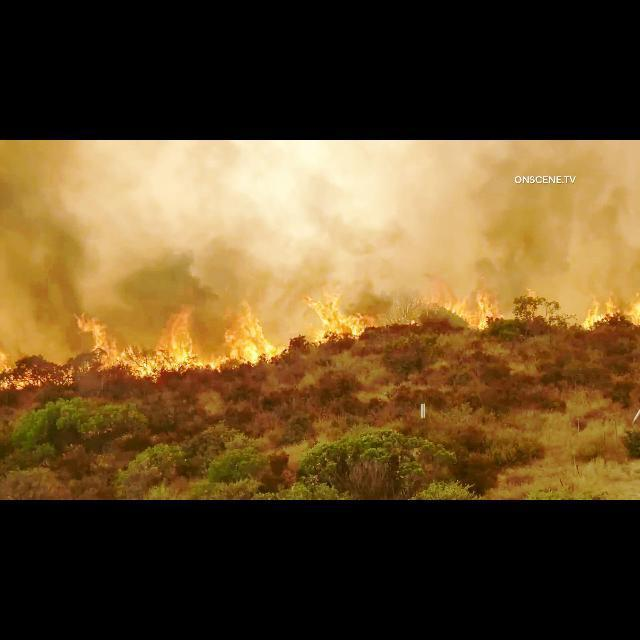Fire: (68, 311, 208, 385), (422, 268, 500, 336), (218, 302, 292, 370), (307, 285, 373, 343), (574, 286, 640, 332)
Smoke: (1, 148, 98, 302), (125, 228, 223, 302)
